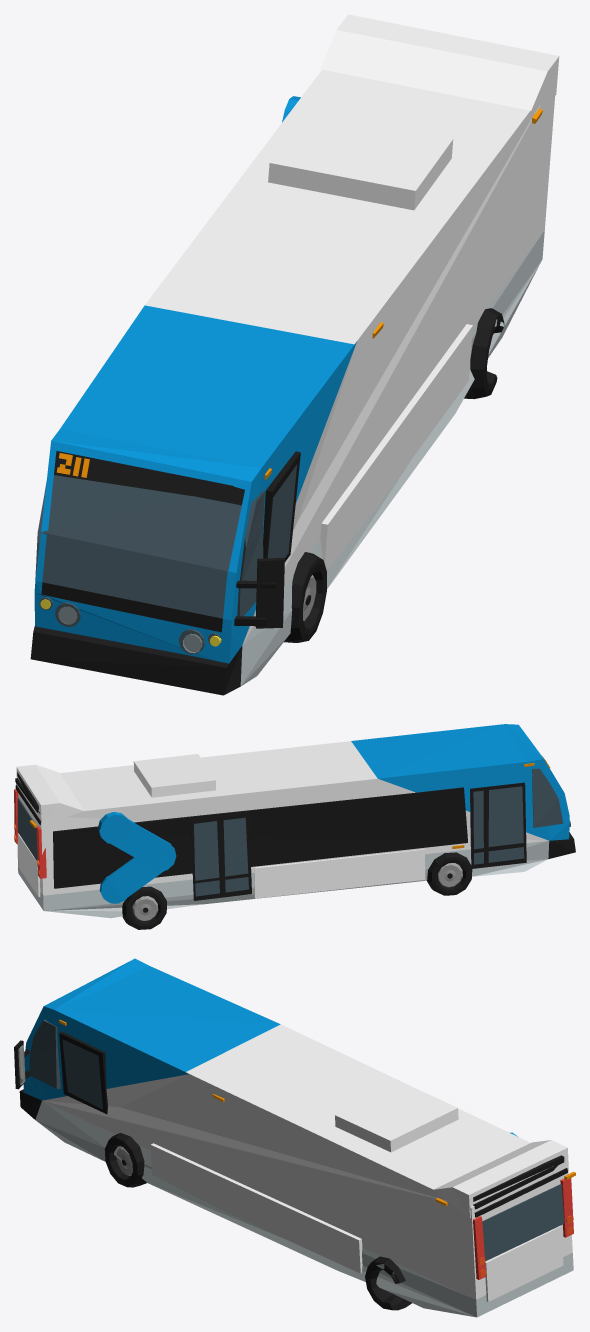
File: bus.obj
3 renders of one model, top to bottom at view 1: azimuth 30°, elevation 25°; view 2: azimuth 150°, elevation 25°; view 3: azimuth 270°, elevation 25°, orthographic. The views are drawn at different scales.
Parts seen in each view (by area): view 1: group2014177817, group1318622928, group775176079, group226044191, group1543686332, group310442833, group2071648707, group739186642, group1809869710; view 2: group2014177817, group853765057, group1025106320, group388658908, group747704577, group775176079, group1318622928, group1074544435, group765134991, group42863415, group1225084829, group2118861100 (+4 smaller); view 3: group2014177817, group226044191, group775176079, group1318622928, group56133134, group916553190, group1543686332, group310442833, group2071648707, group739186642, group2099468154, group1901522065 (+3 smaller).
Boxes of the visible parts, bbox=[...] form: group2014177817: bbox=[30, 69, 555, 695]; group1318622928: bbox=[320, 14, 559, 110]; group775176079: bbox=[268, 111, 453, 210]; group226044191: bbox=[320, 324, 472, 570]; group1543686332: bbox=[263, 451, 300, 562]; group310442833: bbox=[284, 552, 326, 642]; group2071648707: bbox=[237, 491, 264, 616]; group739186642: bbox=[464, 308, 504, 398]; group1809869710: bbox=[255, 558, 284, 628]; group2014177817: bbox=[16, 724, 575, 918]; group853765057: bbox=[53, 787, 467, 888]; group1025106320: bbox=[254, 849, 425, 898]; group388658908: bbox=[191, 812, 251, 900]; group747704577: bbox=[470, 782, 526, 868]; group775176079: bbox=[133, 754, 215, 797]; group1318622928: bbox=[16, 764, 83, 824]; group1074544435: bbox=[426, 852, 472, 895]; group765134991: bbox=[122, 886, 166, 929]; group42863415: bbox=[111, 819, 171, 869]; group1225084829: bbox=[108, 855, 172, 899]; group2118861100: bbox=[98, 812, 130, 844]; group2014177817: bbox=[19, 958, 573, 1317]; group226044191: bbox=[150, 1143, 362, 1273]; group775176079: bbox=[335, 1082, 458, 1152]; group1318622928: bbox=[433, 1140, 568, 1217]; group56133134: bbox=[482, 1184, 564, 1261]; group916553190: bbox=[485, 1225, 563, 1301]; group1543686332: bbox=[59, 1032, 107, 1114]; group310442833: bbox=[104, 1133, 146, 1187]; group2071648707: bbox=[29, 1019, 60, 1088]; group739186642: bbox=[365, 1256, 411, 1310]; group2099468154: bbox=[473, 1155, 564, 1201]; group1901522065: bbox=[474, 1168, 567, 1217].
Size of the model in its own units: 3.52 by 1.12 by 3.41.
